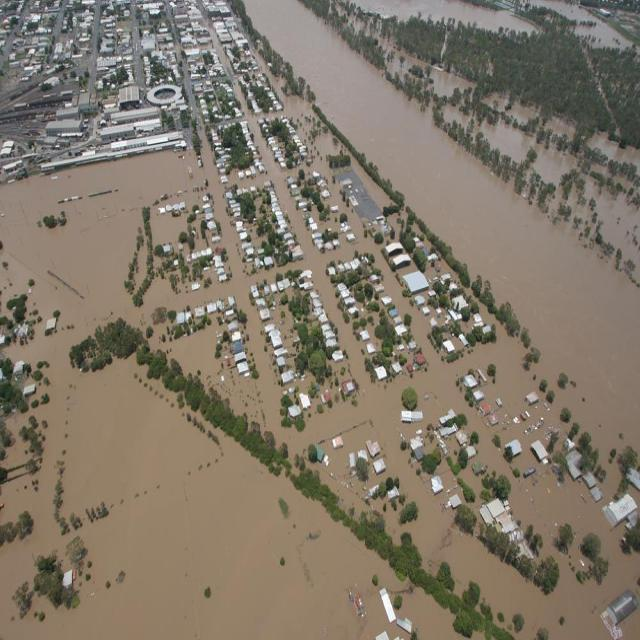flooded_areas: (145, 205, 639, 639), (2, 192, 114, 639), (177, 10, 367, 189)
